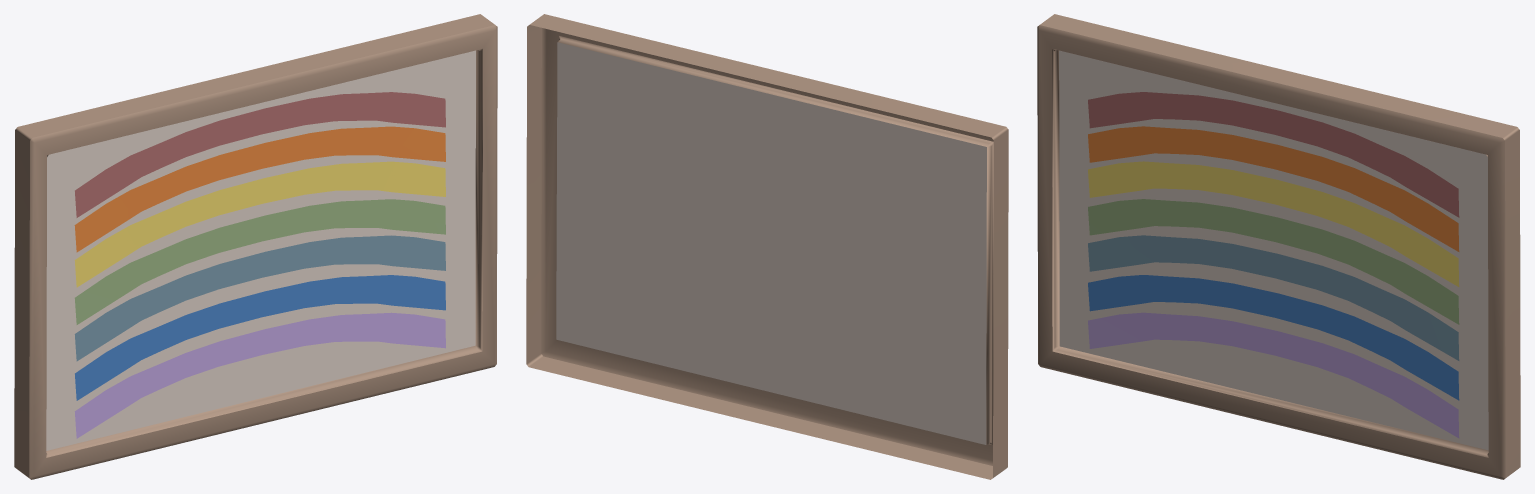
Rendered from Picture_4.glb.
The picture shows the model from 3 angles, left to right: view 1: azimuth 30°, elevation 25°; view 2: azimuth 150°, elevation 25°; view 3: azimuth 330°, elevation 25°; orthographic projection.
Parts seen in each view (by area): view 1: Picture_4; view 2: Picture_4; view 3: Picture_4.
Boxes of the visible parts, x1=… form: Picture_4: x1=14, y1=14, x2=497, y2=479; Picture_4: x1=526, y1=14, x2=1008, y2=479; Picture_4: x1=1037, y1=14, x2=1520, y2=479.
Bounding box in the file's own units: 2.06 × 1.44 × 0.1295.
Materials: 1 (1 with a texture image).
